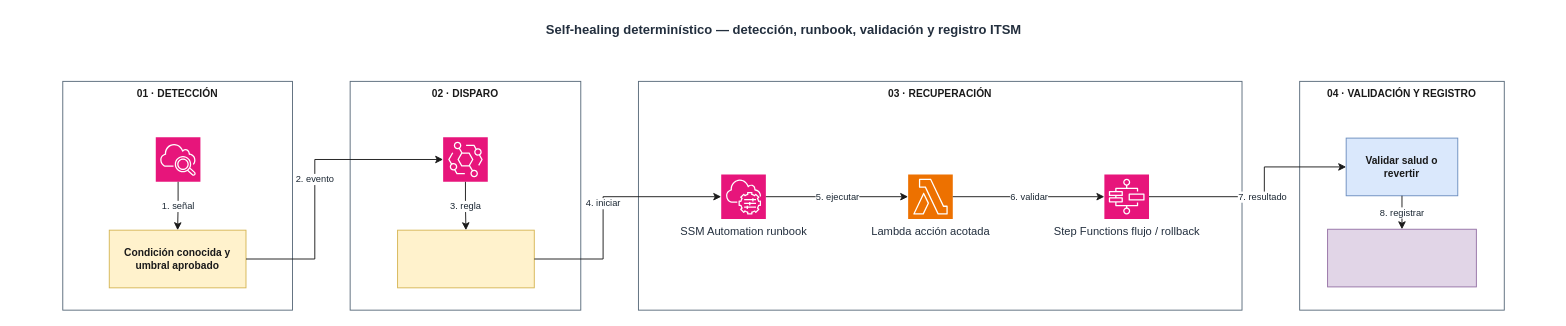
This 1566x326 diagram has some shape labels left out. The shapes that lost their labels are listed below. From the top down, each one's centre as x and y in pixels, then its label:
the point at 177,159: CloudWatch alarma o señal
the point at 465,159: Amazon EventBridge regla de evento
the point at 465,258: Trigger y permisos pre-aprobados
the point at 1401,257: Actualizar caso ITSM y evidencia
